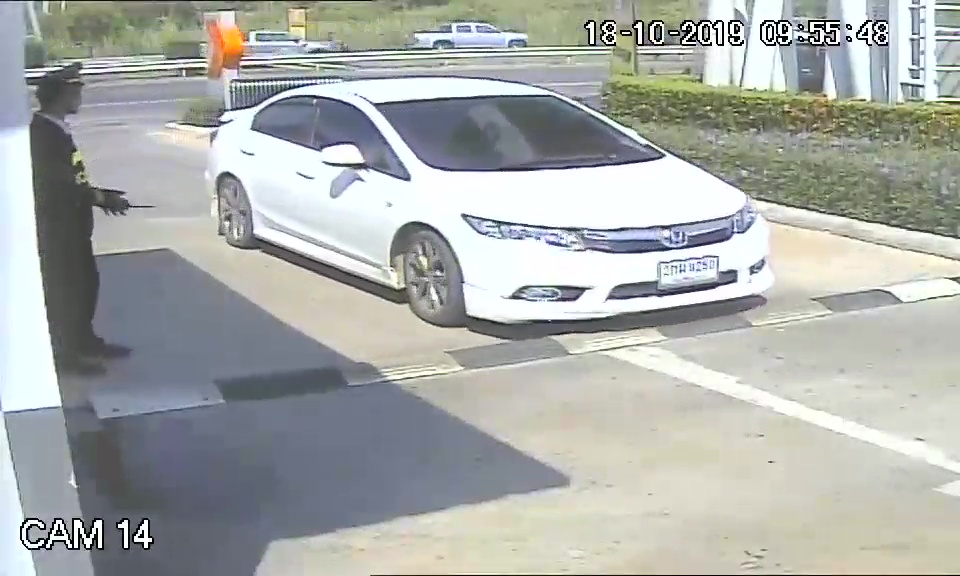sedan: (199, 72, 774, 330)
